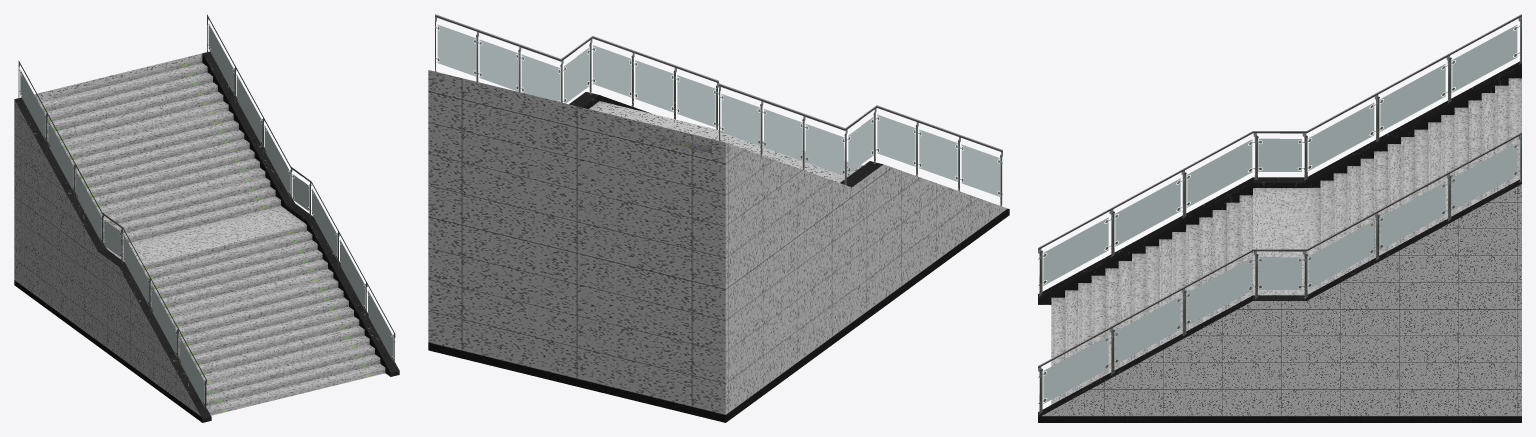
3 views of the same model, side by side, from view 1: azimuth 30°, elevation 25°; view 2: azimuth 150°, elevation 25°; view 3: azimuth 270°, elevation 25° (orthographic). The views are drawn at different scales.
Parts seen in each view (by area): view 1: 楼梯2X; view 2: 楼梯2X; view 3: 楼梯2X.
Part boxes in pixels (x1=…): 楼梯2X: x1=14, y1=14, x2=399, y2=422; 楼梯2X: x1=428, y1=14, x2=1009, y2=422; 楼梯2X: x1=1038, y1=14, x2=1521, y2=422.
Bounding box in the file's own units: 5.95 × 6.46 × 9.83.
Materials: 1 (1 with a texture image).
